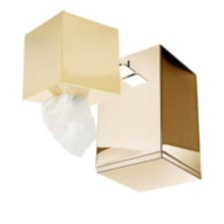tissue: (32, 88, 102, 164)
